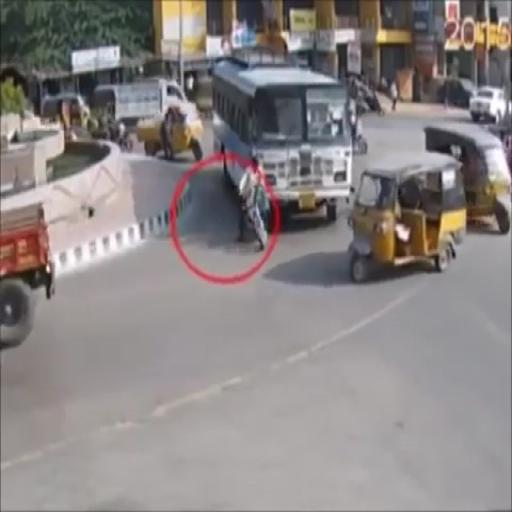小汽车: (348, 158, 462, 282), (137, 104, 204, 158)
小汽车撞自行车: (212, 58, 350, 250)
